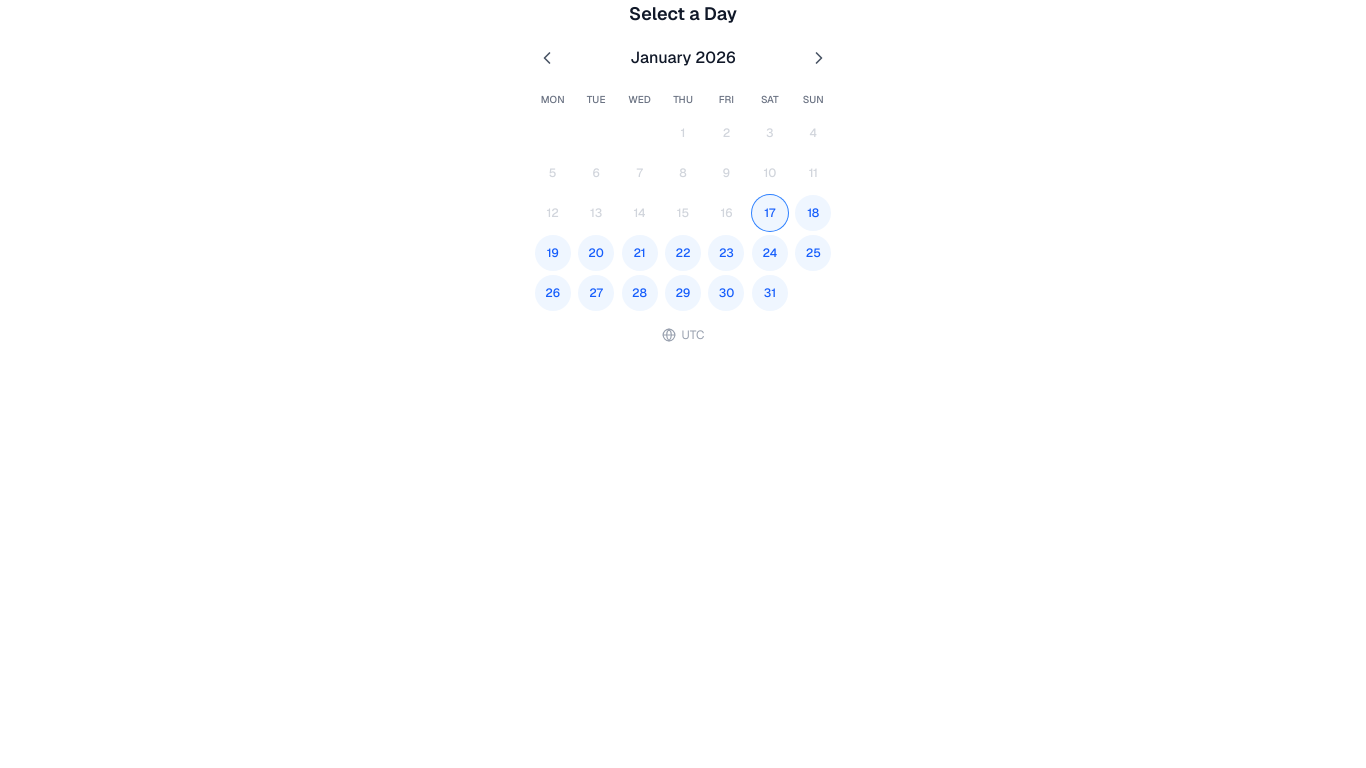
Test: BookingForm › Details Form (Step 3) › should show character count for notes field
Click the button "31" at (770, 293), box [752,275,788,311]
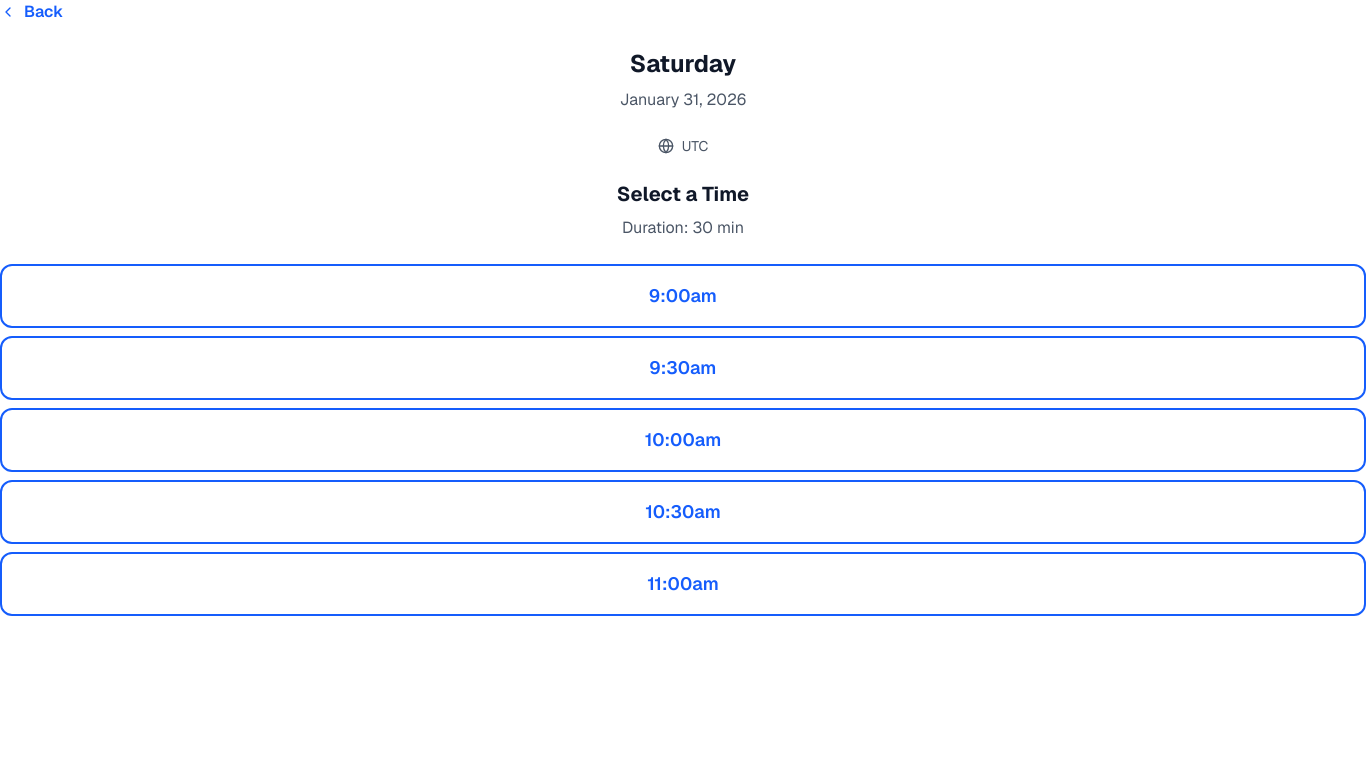
Expected: the button "9:00am" is shown
Click the button "9:00am" at (683, 296), box [0,264,1365,328]
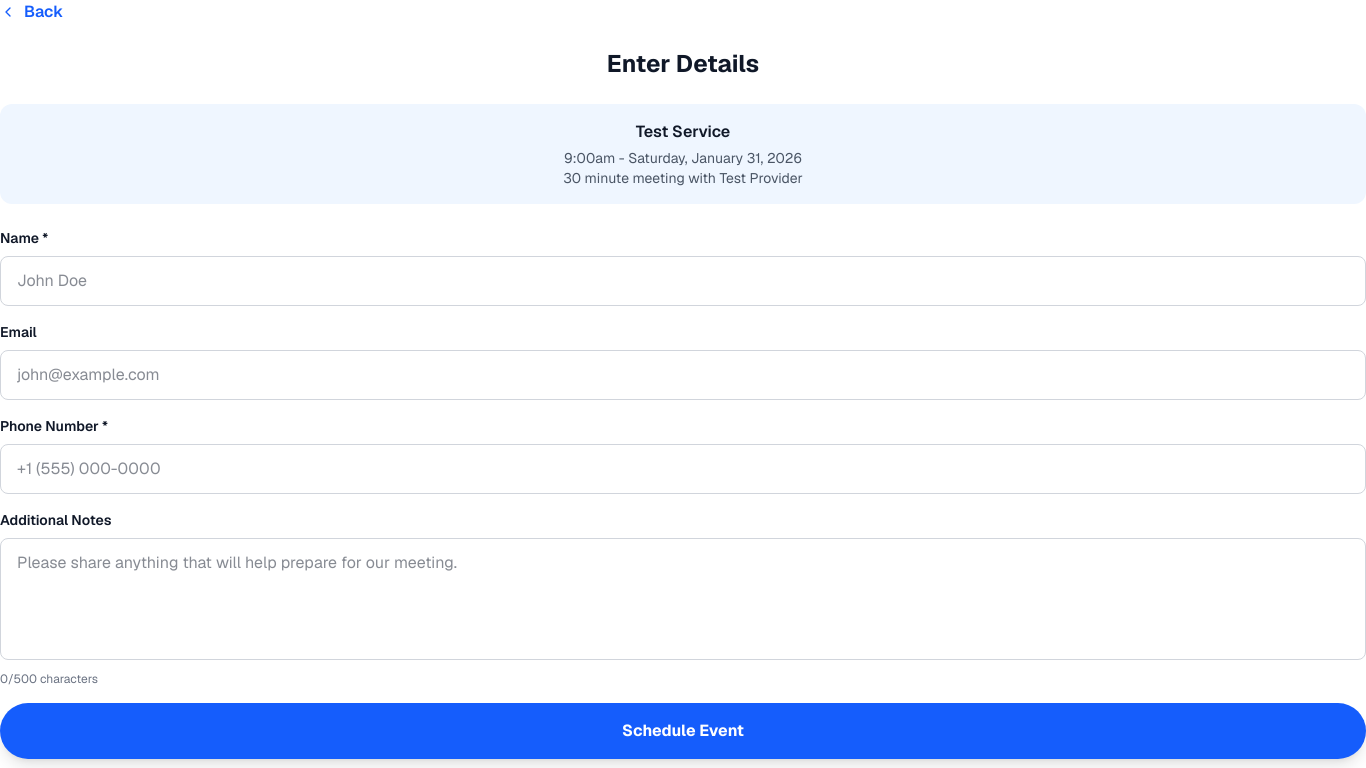
Expected: the heading "Enter Details" is shown, [607,48,759,79]
Expected: the text "0/500 characters" is shown, [0,671,98,687]
Type "Hello" into the text box with placeholder "share anything" at (683, 599), box [0,538,1365,660]
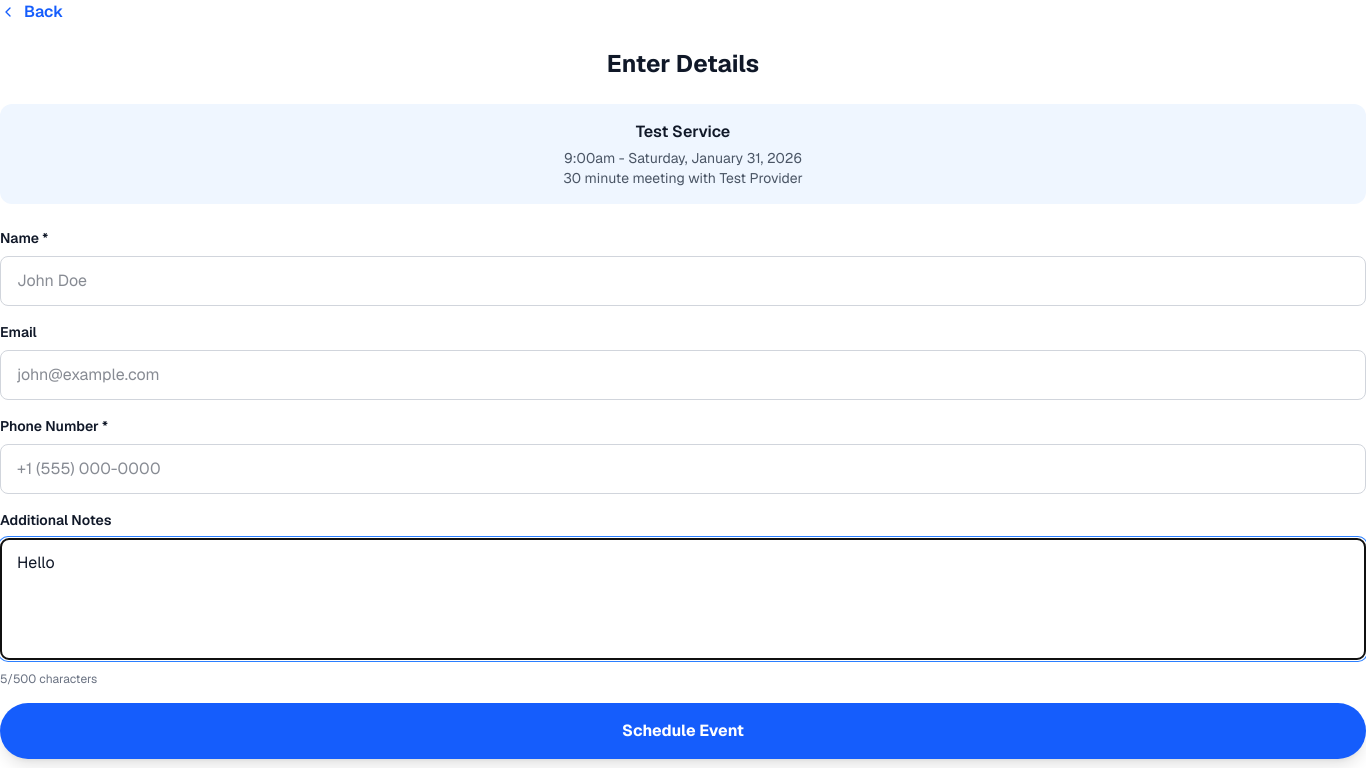
Expected: the text "5/500 characters" is shown, [0,671,97,687]
